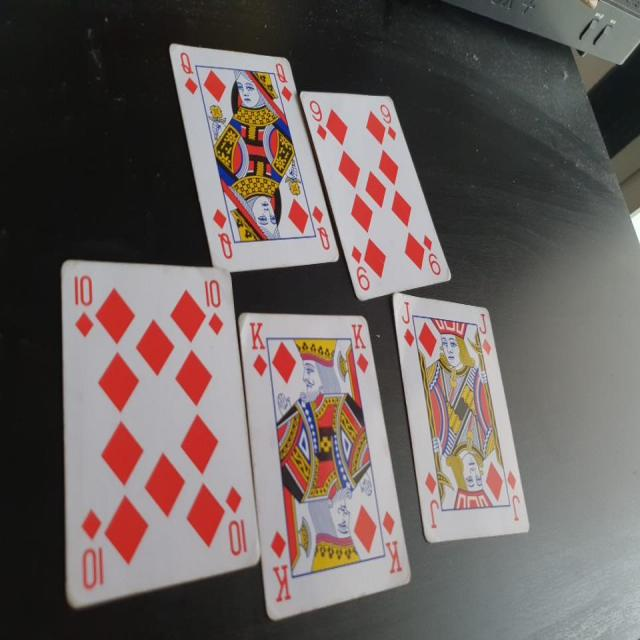10 Diamonds: (60, 255, 260, 608)
9 Diamonds: (297, 88, 452, 301)
J Diamonds: (392, 289, 534, 545)
K Diamonds: (237, 309, 412, 622)
Q Diamonds: (165, 39, 341, 272)
